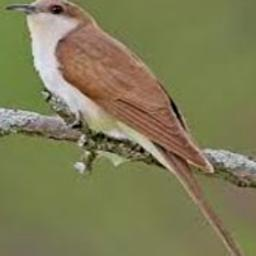Cuckoo: (4, 0, 256, 256)
